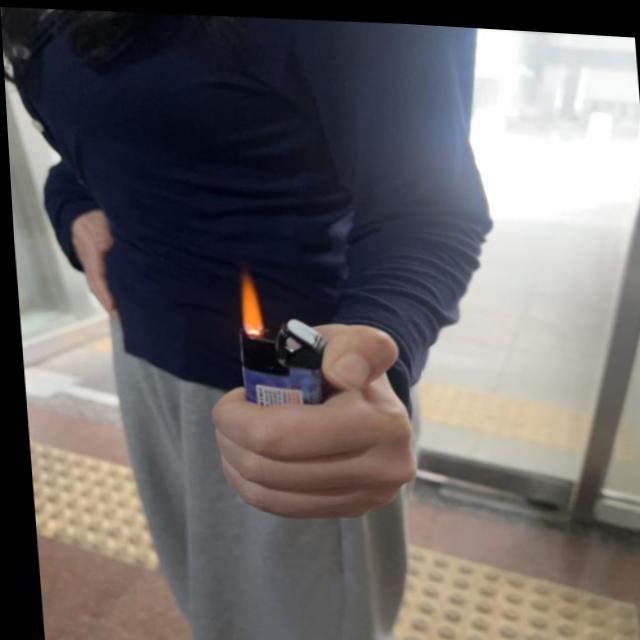Fire: (232, 265, 256, 334)
